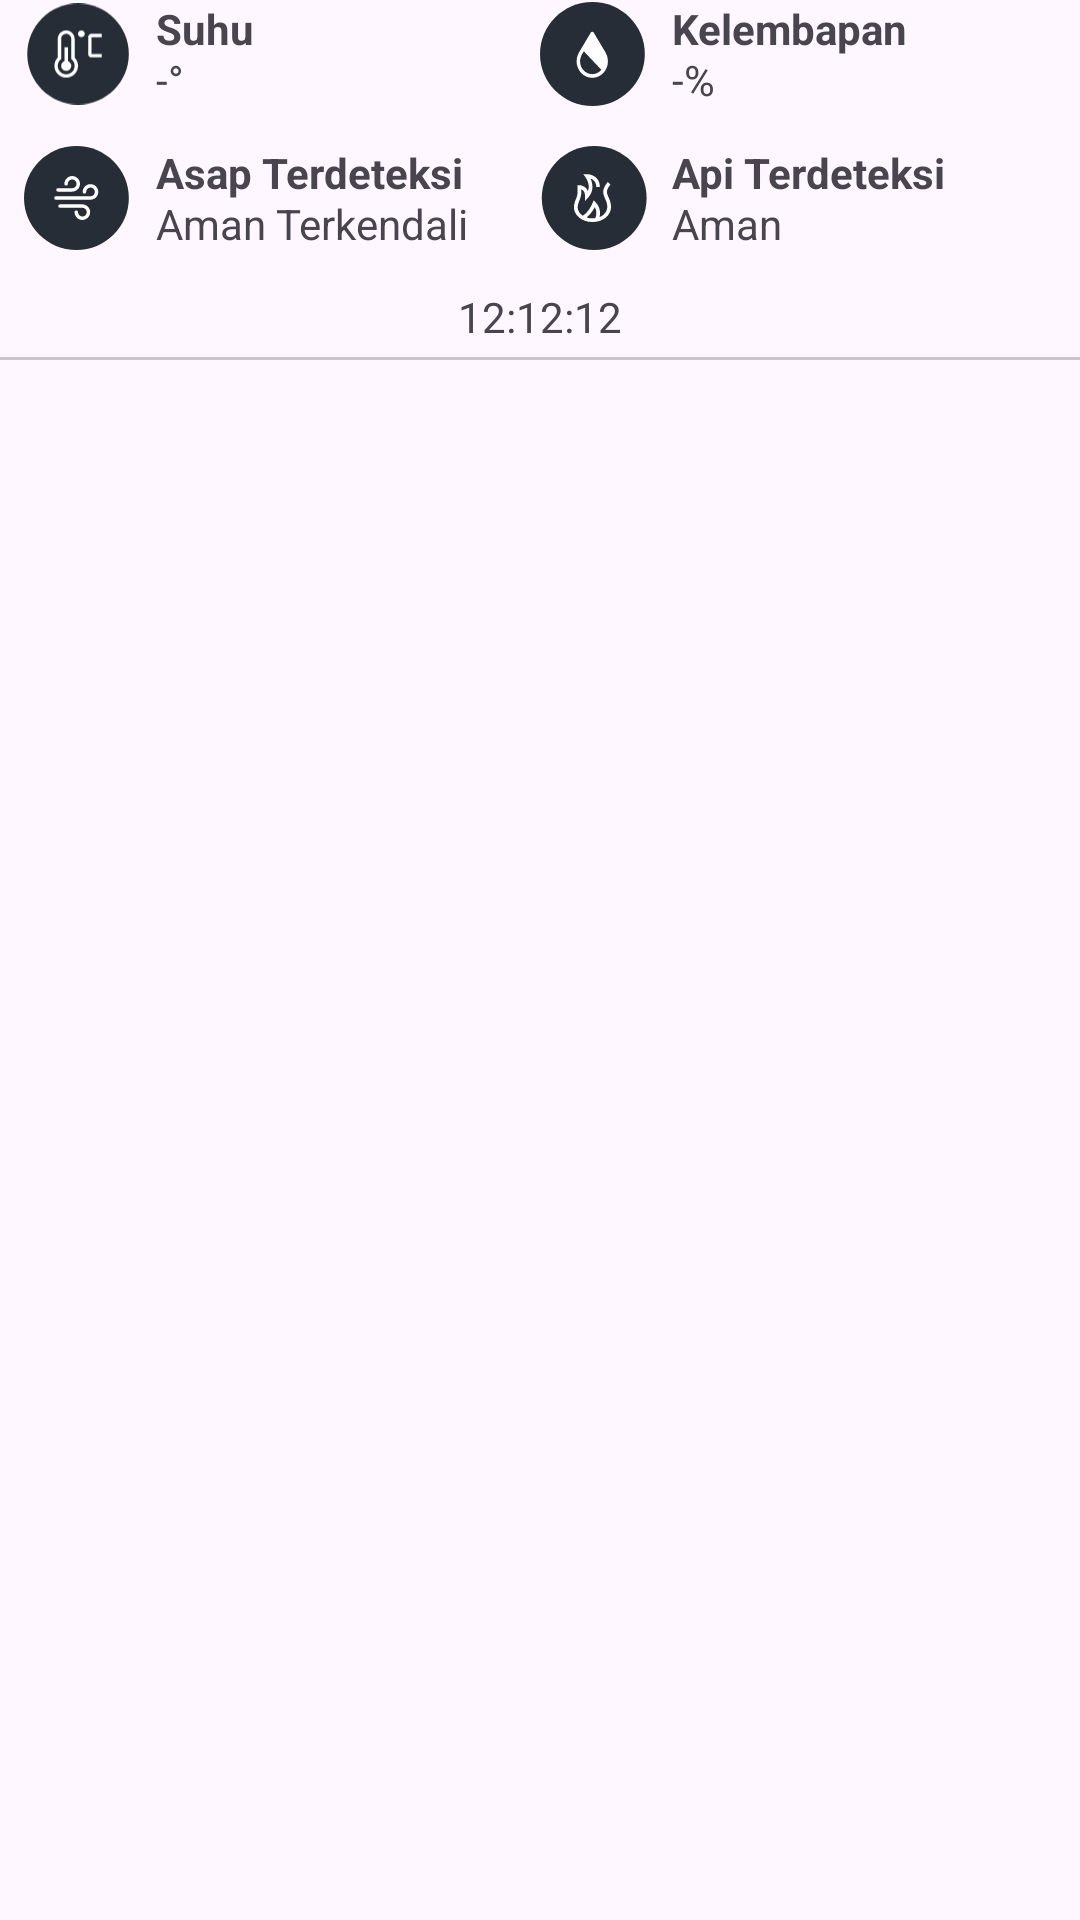

Icon click points for this 1080w x 1920h phone screenshot, format (x=x, y=y):
icon air quality: (x=76, y=198)
icon fire: (x=594, y=198)
icon humidity: (x=592, y=54)
